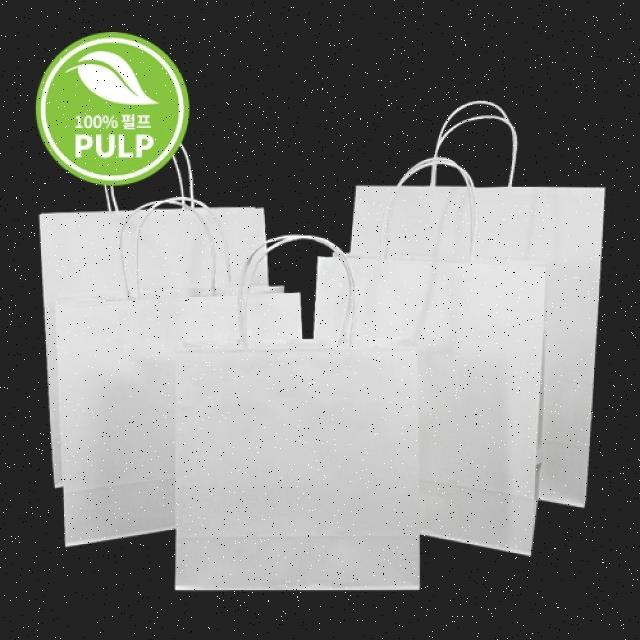paper bag: (165, 319, 424, 602)
